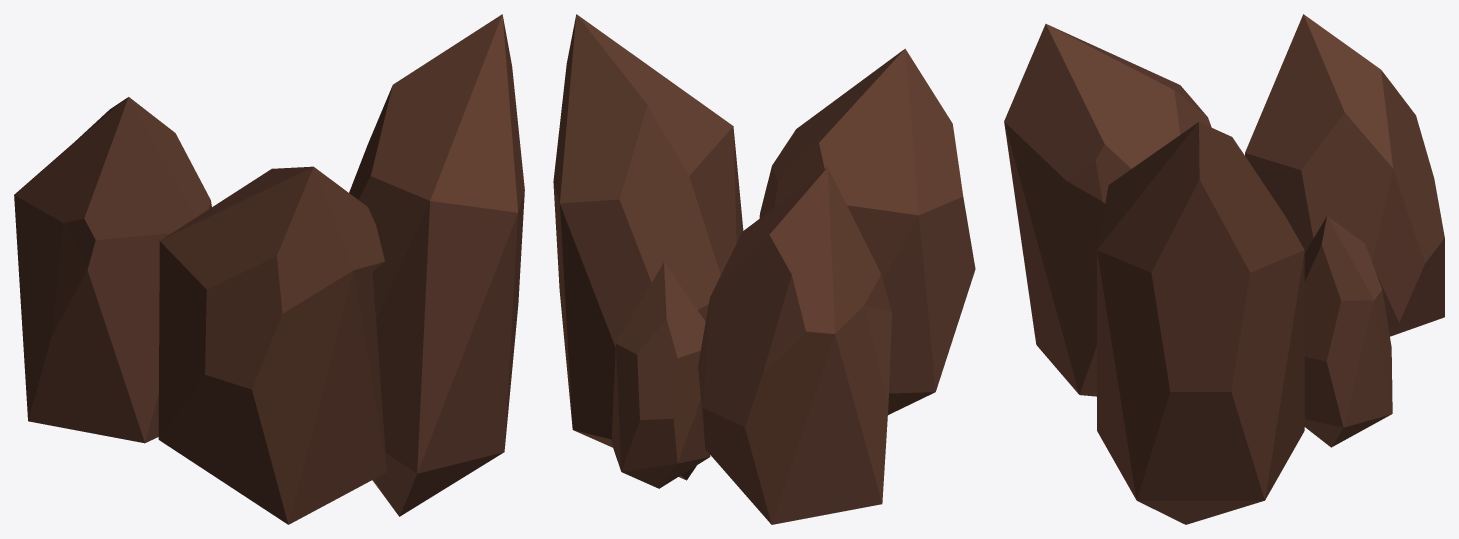
File: IronRock3.glb
3 views of the same model, side by side, from view 1: azimuth 30°, elevation 25°; view 2: azimuth 150°, elevation 25°; view 3: azimuth 270°, elevation 25° (orthographic). The views are drawn at different scales.
Parts seen in each view (by area): view 1: IronRock3; view 2: IronRock3; view 3: IronRock3.
Boxes of the visible parts, bbox=[...] form: IronRock3: bbox=[14, 14, 524, 524]; IronRock3: bbox=[553, 14, 975, 524]; IronRock3: bbox=[1004, 14, 1444, 524].
Bounding box in the file's own units: 0.8627 × 0.95 × 0.8343.
